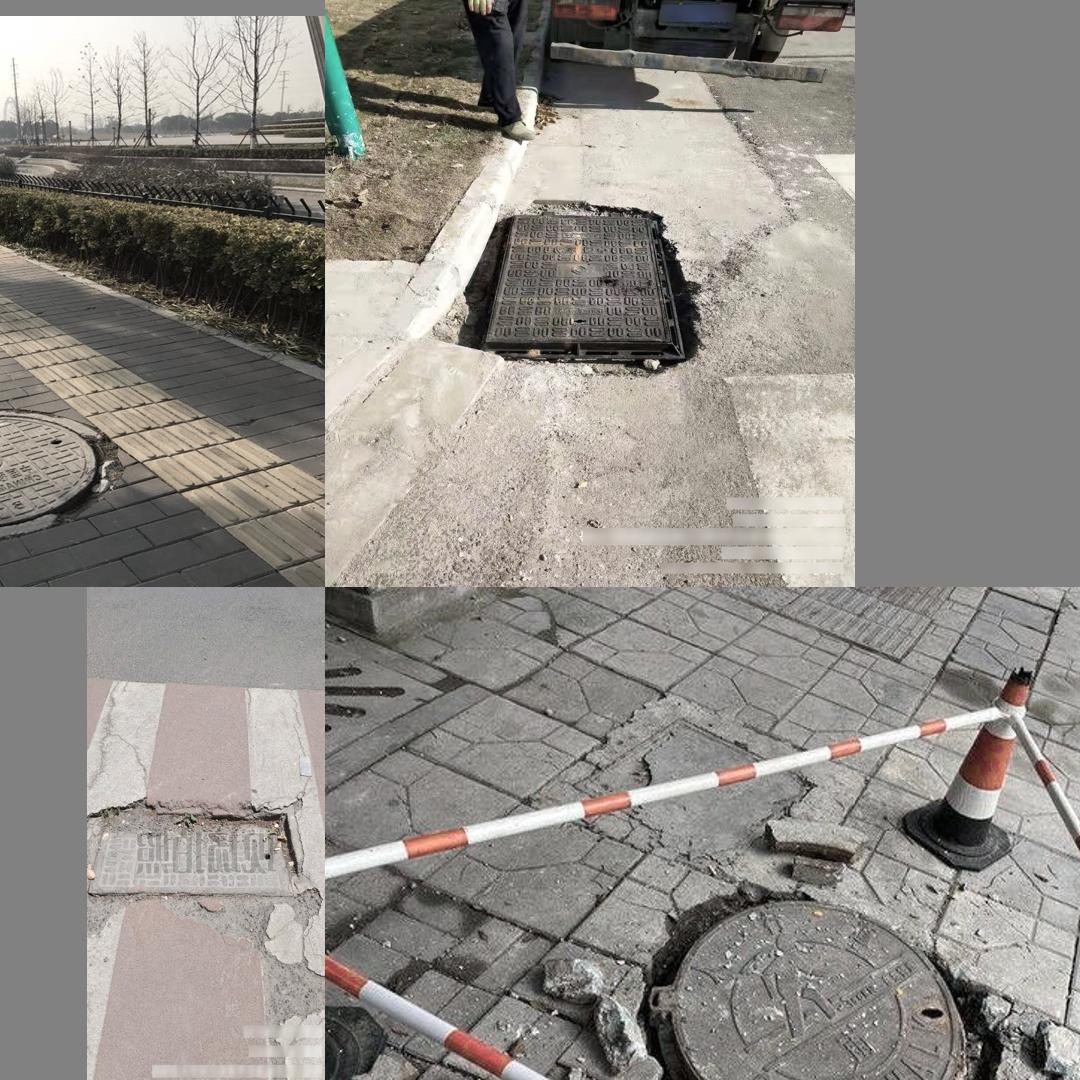circle: (568, 852, 1048, 1080), (454, 207, 700, 371), (87, 808, 305, 901), (0, 409, 121, 541)
